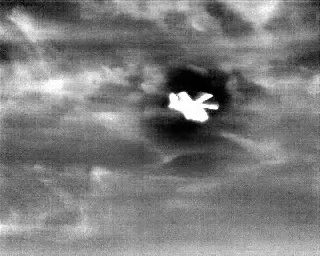HELICOPTER: (166, 86, 223, 128)
